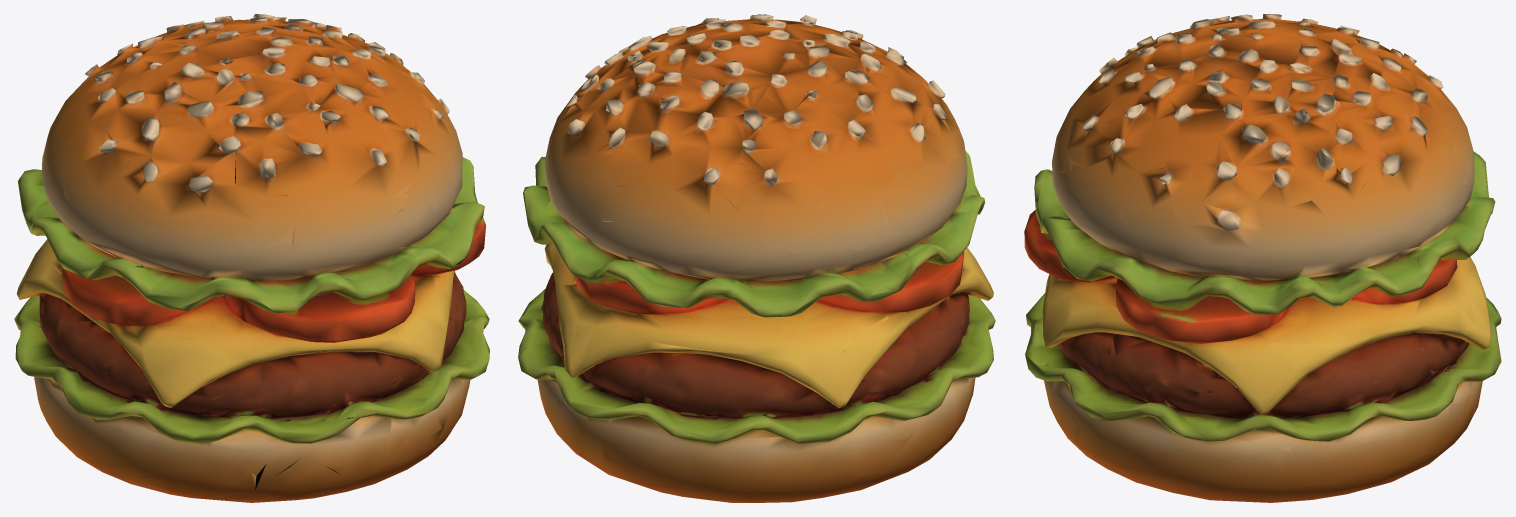
Rendered from burger-v1.glb.
3 views of the same model, side by side, from view 1: azimuth 30°, elevation 25°; view 2: azimuth 150°, elevation 25°; view 3: azimuth 270°, elevation 25° (orthographic).
Parts seen in each view (by area): view 1: burger_surface; view 2: burger_surface; view 3: burger_surface.
Boxes of the visible parts, x1,y1,x2,y2 form: burger_surface: (14, 14, 489, 502); burger_surface: (518, 14, 995, 502); burger_surface: (1024, 14, 1501, 502).
Size of the model in its own units: 0.1548 by 0.1408 by 0.1549.
1 material, 1 textured.
